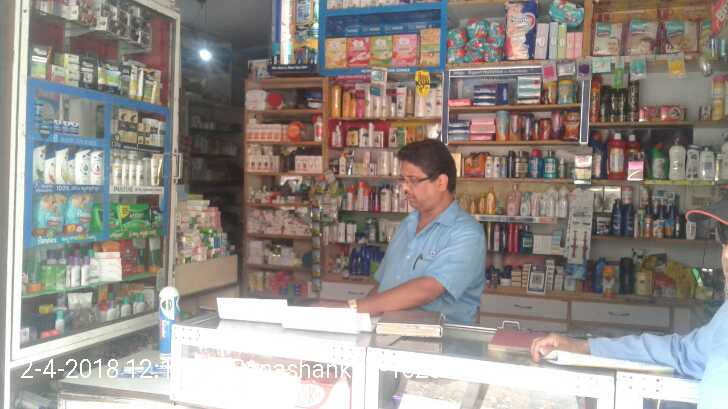vicks: (34, 100, 53, 133), (54, 121, 63, 134), (72, 122, 81, 134), (63, 121, 70, 134)
